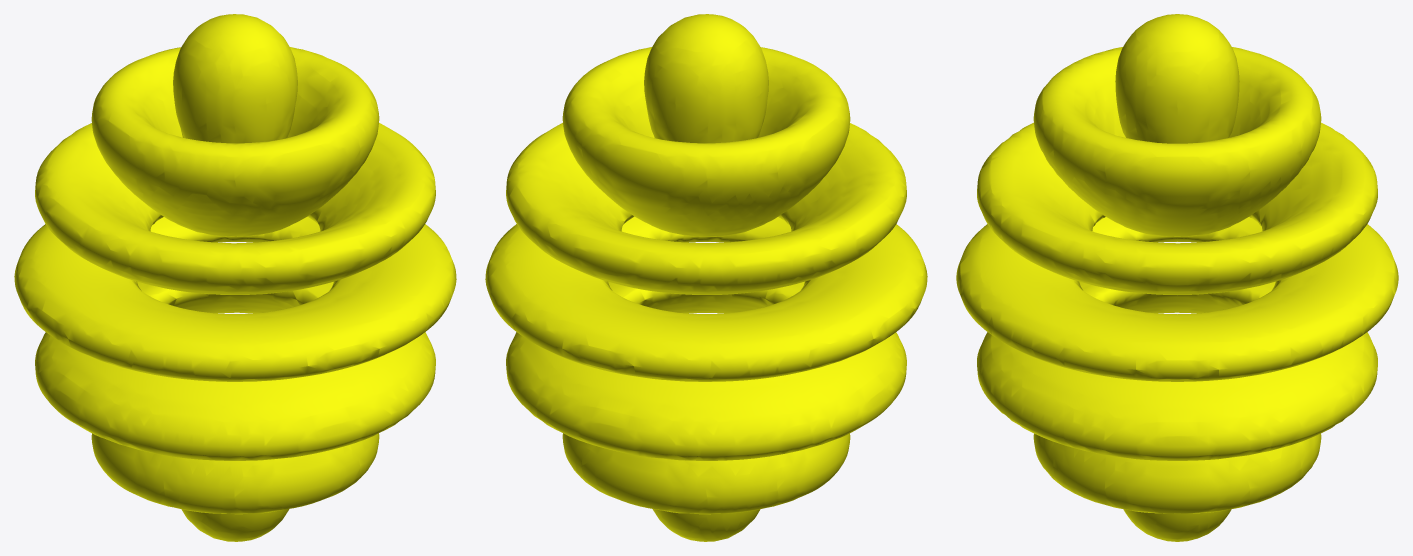
Rendered from orb1.fbx.
3 views of the same model, side by side, from view 1: azimuth 30°, elevation 25°; view 2: azimuth 150°, elevation 25°; view 3: azimuth 270°, elevation 25° (orthographic).
Visible parts, largest first — view 1: orb_n=7_ l=6 _m=0; view 2: orb_n=7_ l=6 _m=0; view 3: orb_n=7_ l=6 _m=0.
Part boxes in pixels (box(x1,y1,x2,y2)): orb_n=7_ l=6 _m=0: box(14, 14, 456, 541); orb_n=7_ l=6 _m=0: box(485, 14, 927, 541); orb_n=7_ l=6 _m=0: box(956, 14, 1398, 541).
Size of the model in its own units: 14271 by 18400 by 14271.
